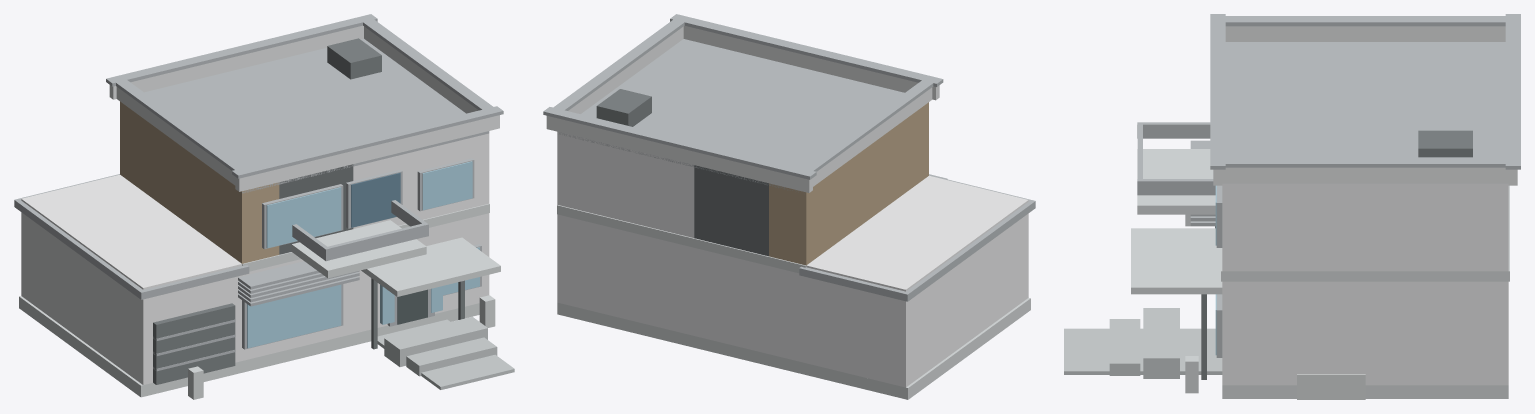
The model's file is house.gltf.
The picture shows the model from 3 angles, left to right: view 1: azimuth 30°, elevation 25°; view 2: azimuth 150°, elevation 25°; view 3: azimuth 270°, elevation 25°; orthographic projection. The views are drawn at different scales.
Visible parts, largest first — view 1: garage_body, roof_deck, f2_wood_panel, f1_body, garage_door, f2_right, canopy, f1_win_L, parapet_front, balcony_slab, parapet_back, f2_win_L (+33 smaller); view 2: garage_body, f1_body, roof_deck, f2_wood_panel, f2_right, f2_dark_panel, parapet_back, parapet_front, plinth_main, plinth_garage, garage_roof, cope_back (+7 smaller); view 3: roof_deck, f1_body, f2_right, canopy, parapet_R, parapet_L, paving_front, balcony_slab, slab_band, cope_L, cope_R, plinth_main (+12 smaller).
Part boxes in pixels (box(x1,y1,x2,y2)): garage_body: box(21, 174, 241, 384); roof_deck: box(144, 38, 489, 193); f2_wood_panel: box(120, 101, 279, 263); f1_body: box(242, 213, 489, 360); garage_door: box(153, 303, 235, 384); f2_right: box(353, 133, 489, 228); canopy: box(361, 237, 500, 296); f1_win_L: box(247, 284, 341, 348); parapet_front: box(235, 115, 499, 191); balcony_slab: box(291, 220, 426, 278); parapet_back: box(109, 25, 363, 99); f2_win_L: box(266, 187, 341, 248); garage_body: box(806, 175, 1028, 387); f1_body: box(557, 214, 806, 362); roof_deck: box(559, 39, 904, 192); f2_wood_panel: box(769, 102, 928, 265); f2_right: box(557, 132, 694, 237); f2_dark_panel: box(694, 165, 768, 256); parapet_back: box(546, 116, 812, 192); parapet_front: box(683, 25, 939, 100); plinth_main: box(557, 302, 806, 374); plinth_garage: box(804, 298, 1030, 399); garage_roof: box(799, 175, 1035, 301); cope_back: box(543, 107, 816, 179); roof_deck: box(1225, 42, 1505, 157); f1_body: box(1222, 281, 1508, 385); f2_right: box(1222, 183, 1508, 271); canopy: box(1131, 228, 1222, 294); parapet_R: box(1222, 167, 1508, 183); parapet_L: box(1225, 26, 1505, 41); paving_front: box(1064, 328, 1222, 374); balcony_slab: box(1137, 149, 1215, 214); slab_band: box(1221, 185, 1509, 281); cope_L: box(1219, 16, 1511, 26); cope_R: box(1219, 157, 1511, 167); plinth_main: box(1222, 385, 1508, 398).
Bounding box in the file's own units: 13.6 × 7.34 × 12.75.
